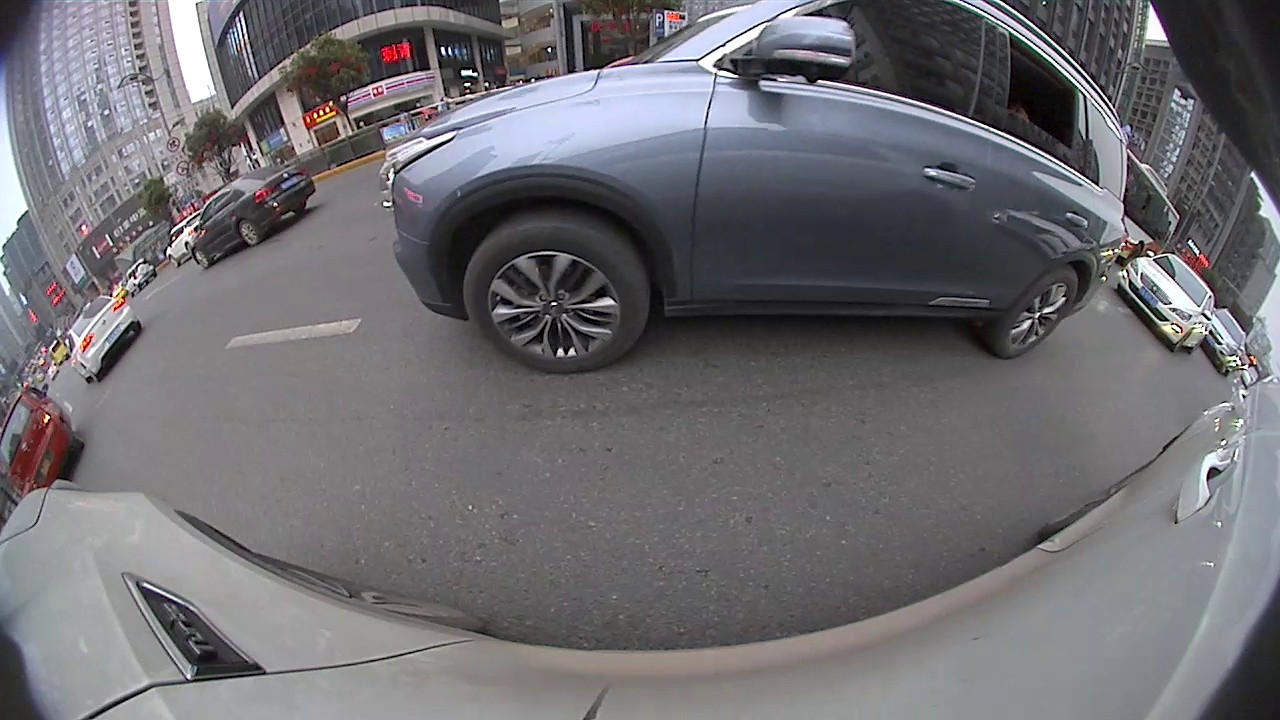car: (376, 1, 1131, 373), (187, 164, 318, 270), (1114, 252, 1215, 358), (63, 288, 145, 386)
front: (463, 220, 649, 378), (192, 250, 212, 271)
rear: (995, 268, 1083, 363), (238, 218, 262, 248)
rider: (1, 383, 83, 492)
